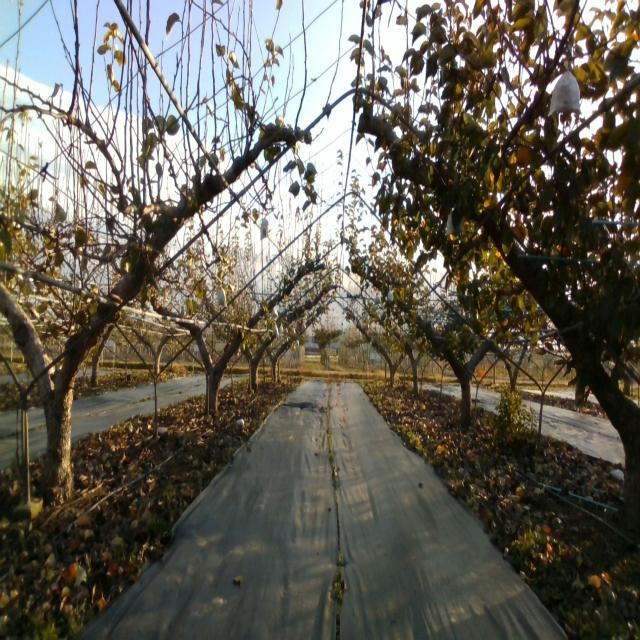pearbags: (548, 58, 582, 118), (216, 283, 227, 308)
